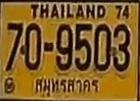0: (23, 22, 40, 69), (93, 24, 110, 70)
3: (112, 24, 129, 70)
5: (74, 23, 90, 70)
7: (5, 22, 23, 70)
9: (55, 24, 72, 70)
SKN: (31, 73, 105, 99)
